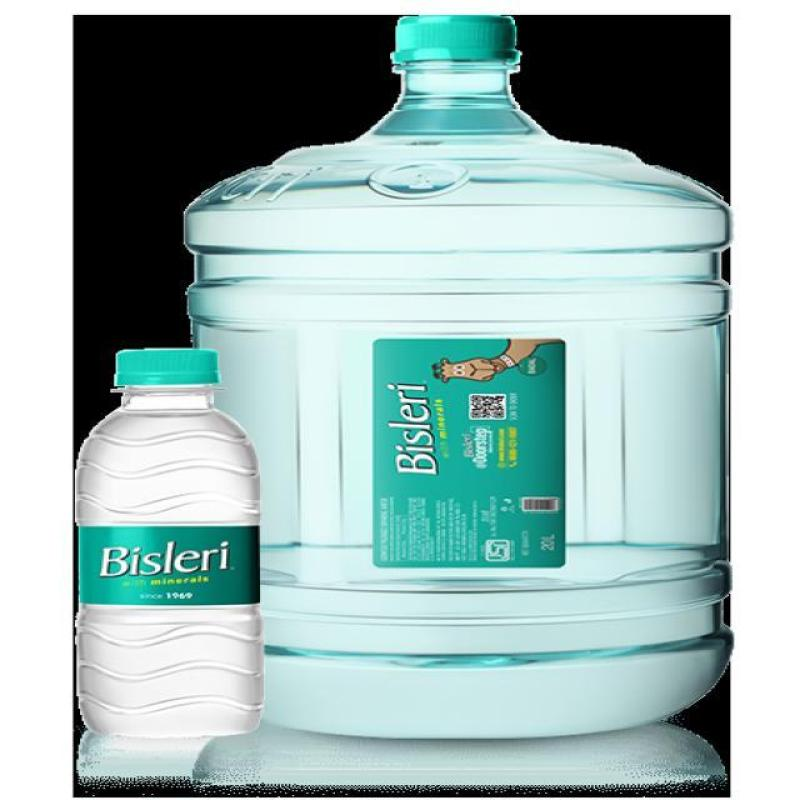botella: (73, 347, 262, 735)
